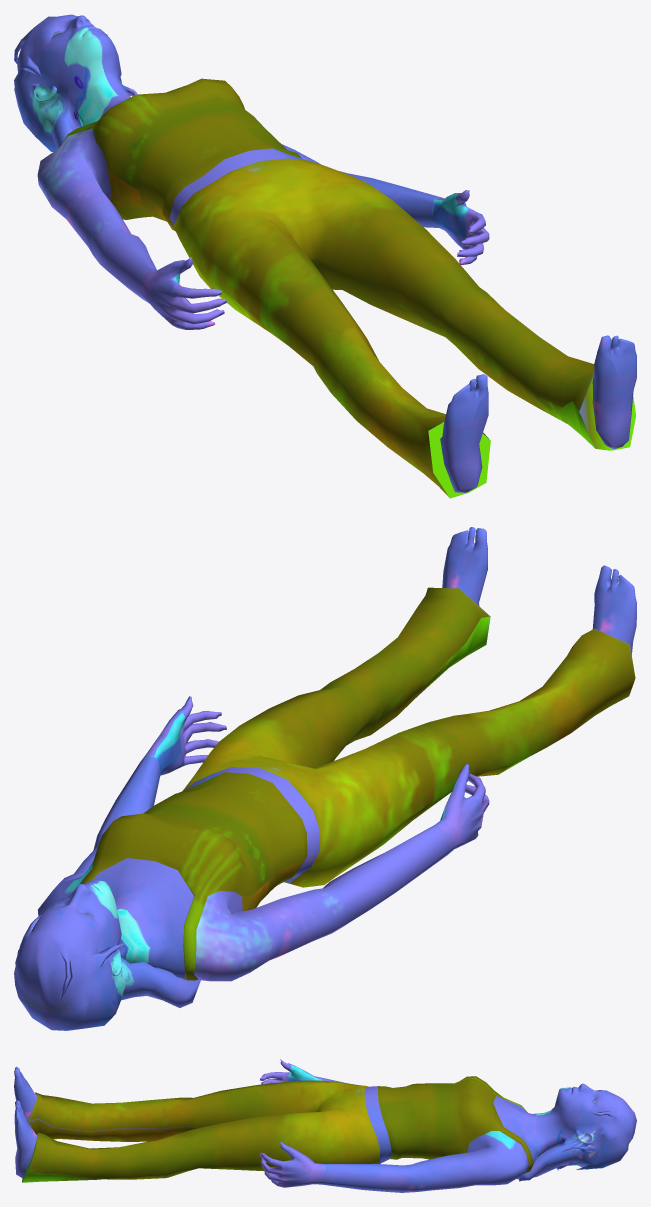
File: l4d2-common_female_tanktop_jeans.glb
3 views of the same model, one above another, from view 1: azimuth 30°, elevation 25°; view 2: azimuth 150°, elevation 25°; view 3: azimuth 270°, elevation 25° (orthographic). The views are drawn at different scales.
Size of the model in its own units: 25.78 by 11.61 by 72.06.
2 materials, 2 textured.
